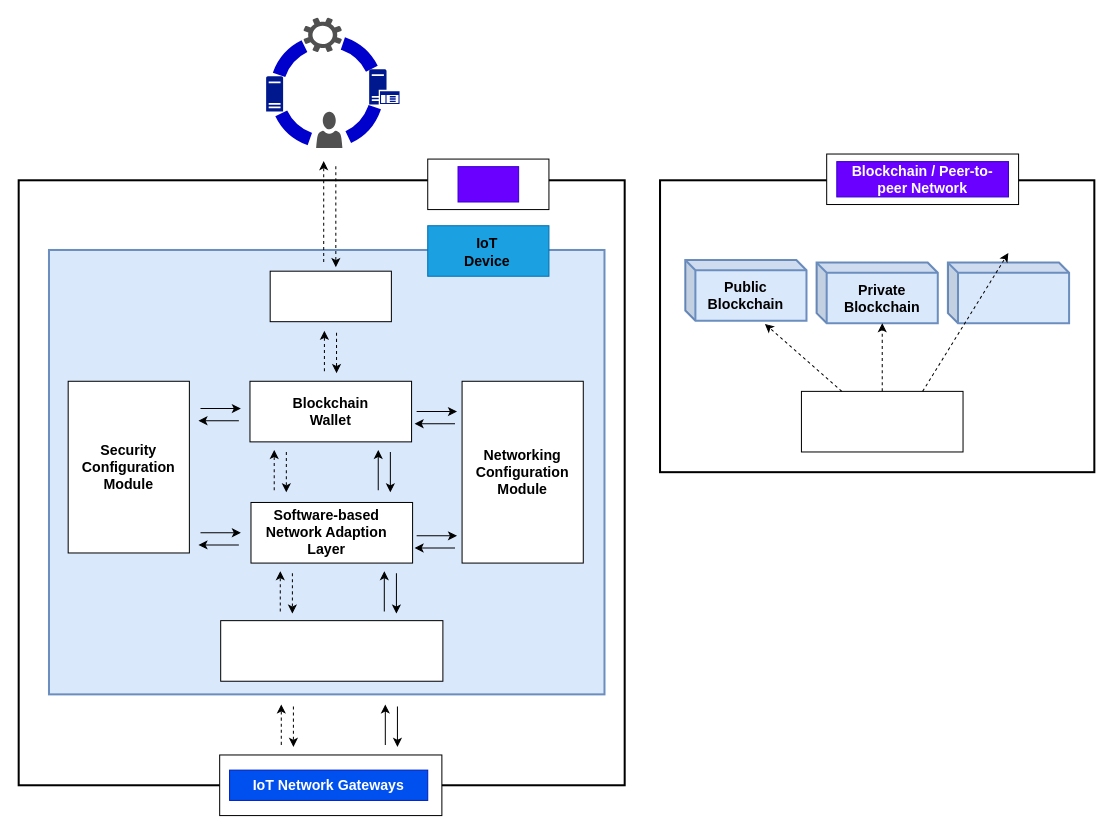
This 1112x833 diagram has some shape labels left out. Here are the shapes that lost their labels. From the top down, the box of each, then its label:
(457, 166, 519, 202): IoT Network
(269, 270, 391, 322): Input / Output
(946, 261, 1070, 324): Consortium Blockchain
(800, 390, 963, 452): Miners / Validations
(220, 620, 443, 681): IoT Network Protocol Stack
